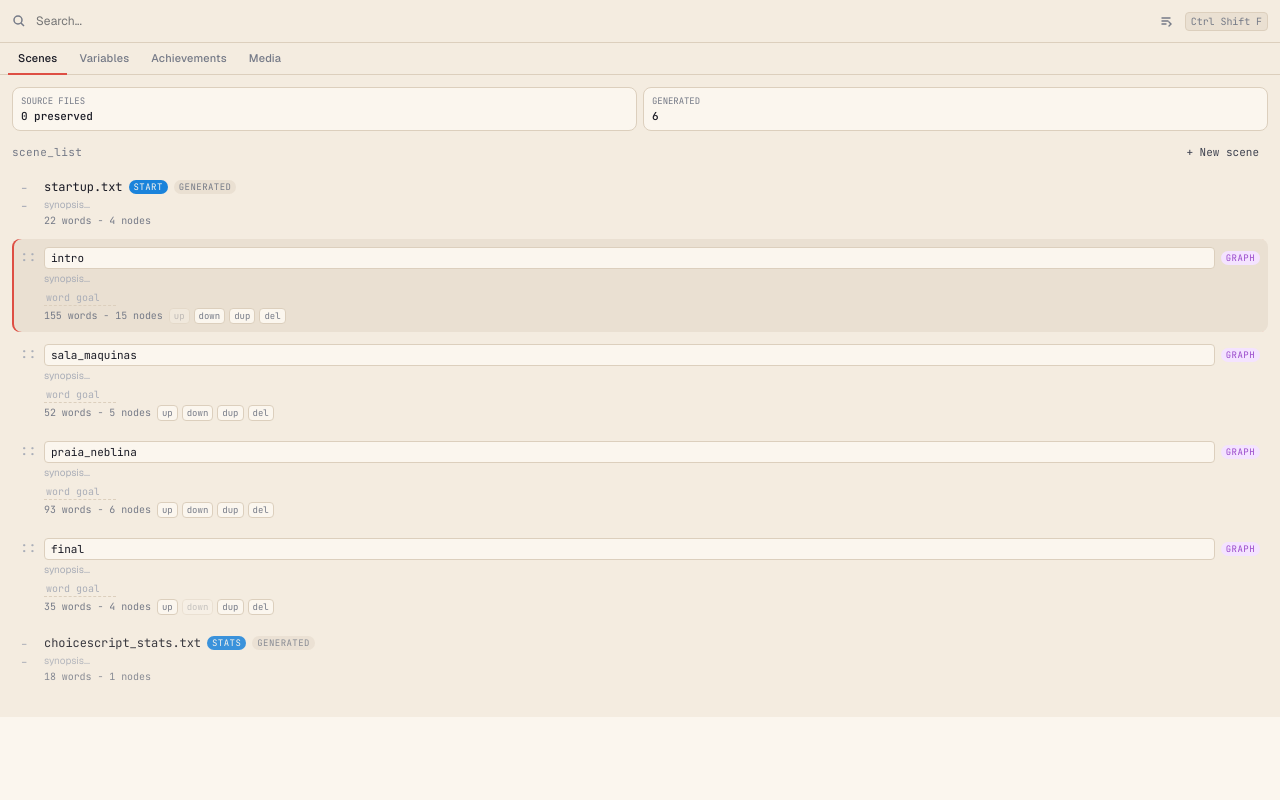
Test: LeftPanel — i18n: search results respect the editor language › EN sample: typing a query that matches nothing shows 'no results' in English
Type "zzzznonexistent_query_zzzz" into the field with placeholder "Search..." at (590, 21), box left=34, top=12, right=1147, bottom=30
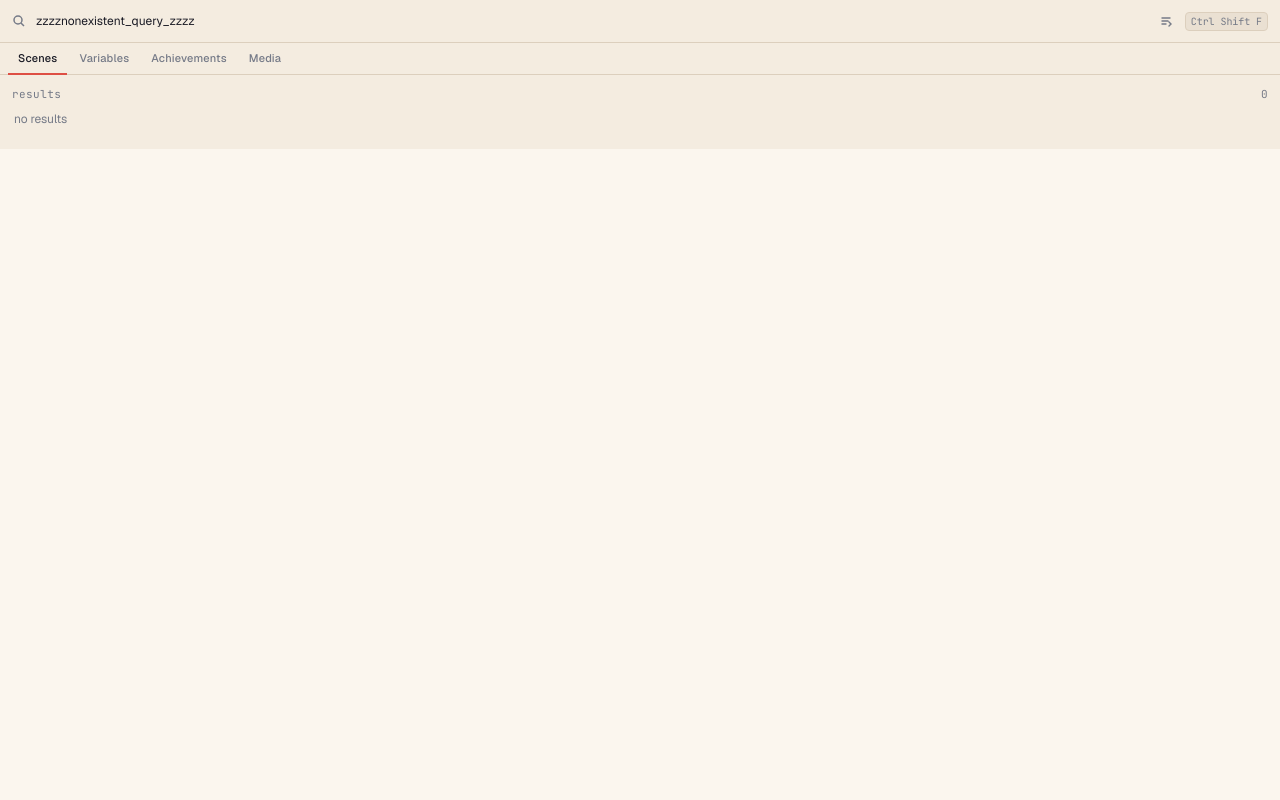
Check: the text "no results" is shown, box left=14, top=111, right=67, bottom=127
